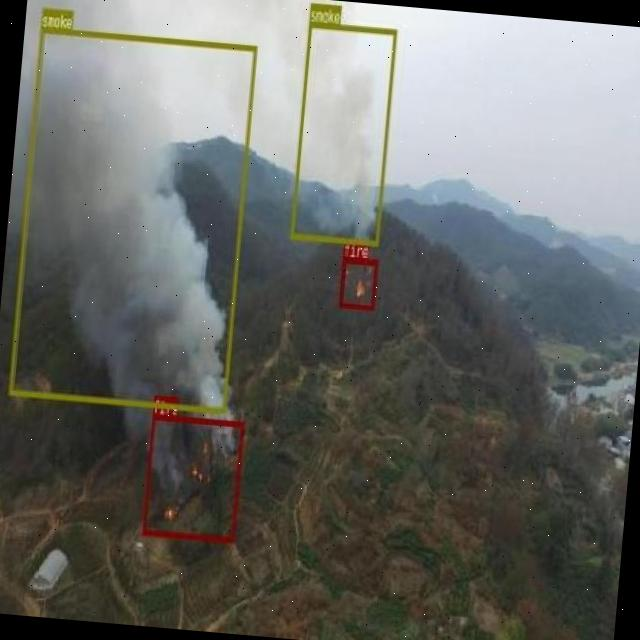fire: (142, 413, 243, 542), (338, 256, 378, 310)
smoke: (8, 26, 256, 414), (289, 21, 397, 245)
